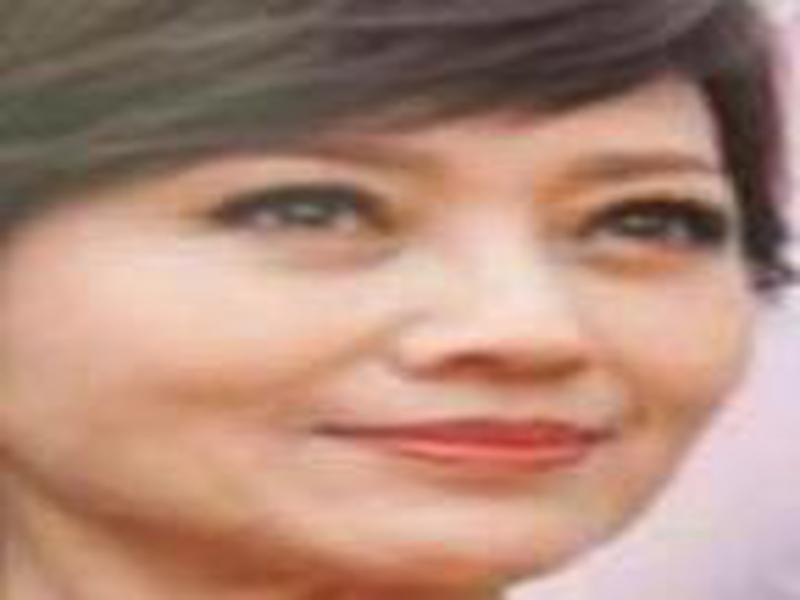without_mask: (97, 61, 759, 585)
